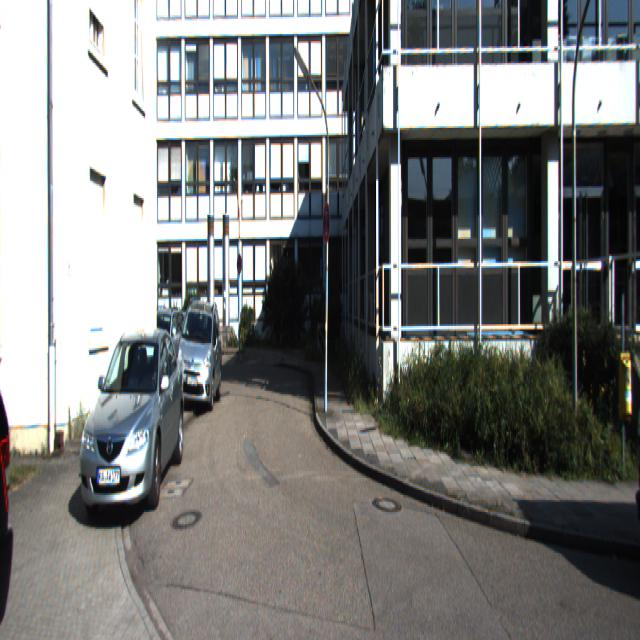Car: (74, 321, 188, 524), (624, 194, 640, 566), (173, 299, 225, 411)
